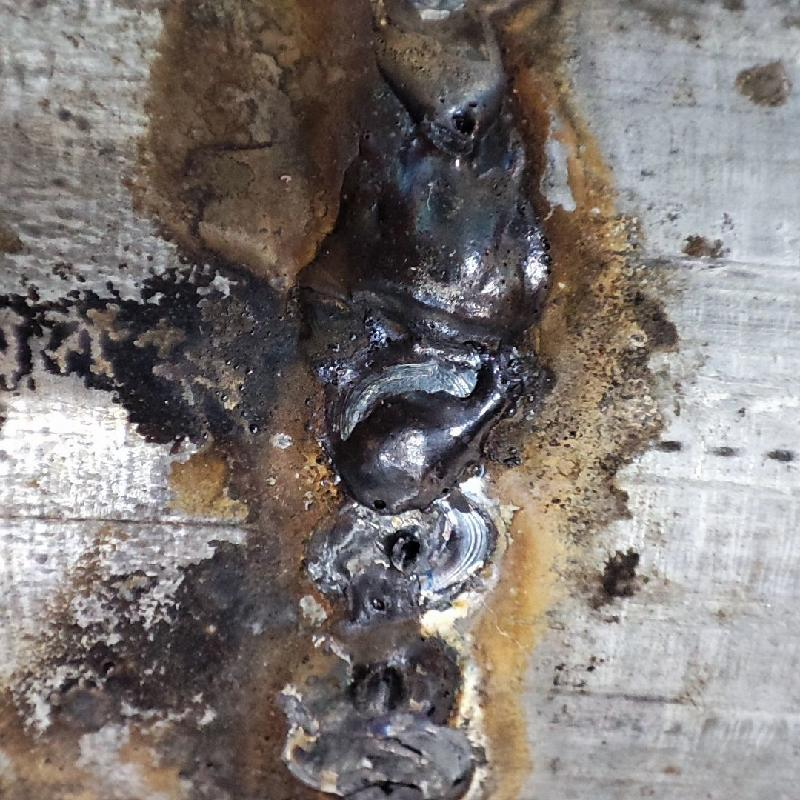Not_fully_soldered: (363, 2, 524, 145)
Surface_pores: (378, 521, 428, 589), (431, 96, 495, 143)
Weld: (314, 145, 549, 515)
